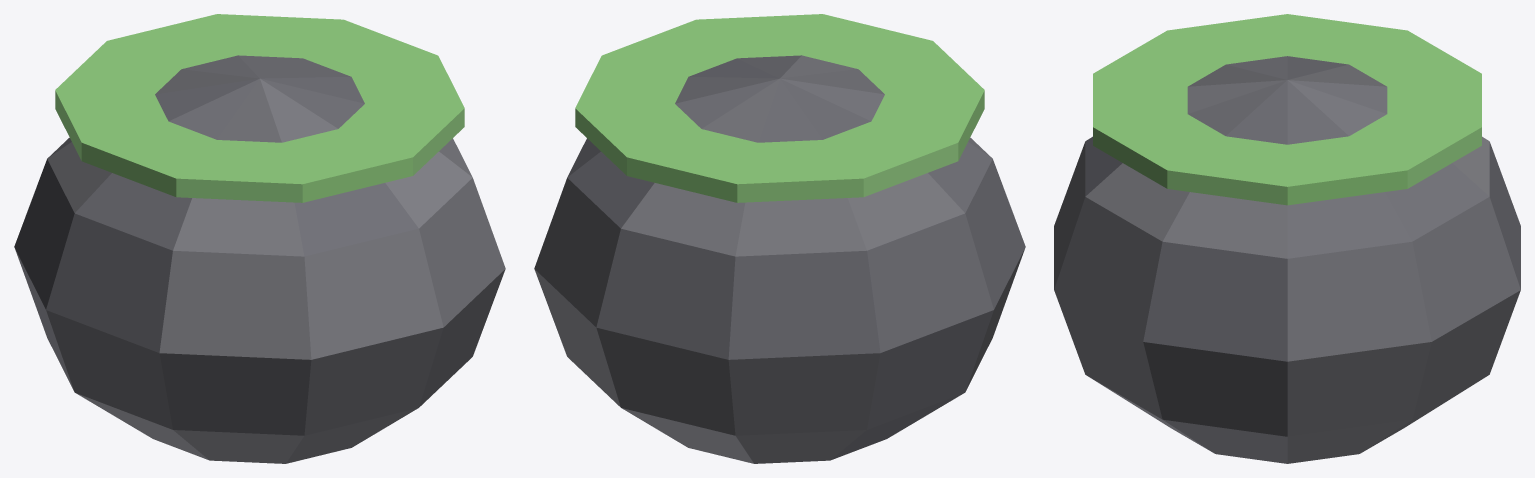
File: furn_cauldron.glb
3 renders of one model, left to right at view 1: azimuth 30°, elevation 25°; view 2: azimuth 150°, elevation 25°; view 3: azimuth 270°, elevation 25°, orthographic.
Parts seen in each view (by area): view 1: furn_cauldron2; view 2: furn_cauldron2; view 3: furn_cauldron2.
Part boxes in pixels (bbox=[...]): furn_cauldron2: bbox=[14, 14, 505, 463]; furn_cauldron2: bbox=[534, 14, 1025, 463]; furn_cauldron2: bbox=[1054, 14, 1520, 463].
Bounding box in the file's own units: 1.2 × 0.96 × 1.14.
